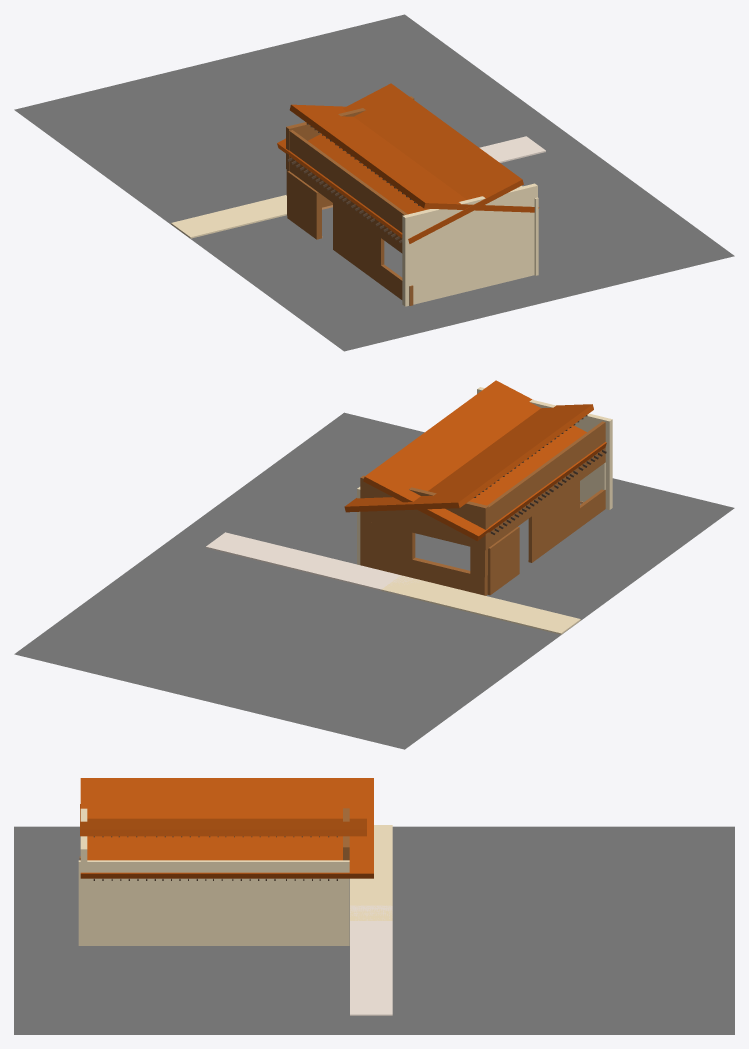
File: Paredes 1.fbx
The picture shows the model from 3 angles, top to bottom: view 1: azimuth 30°, elevation 25°; view 2: azimuth 150°, elevation 25°; view 3: azimuth 270°, elevation 25°; orthographic projection. The views are drawn at different scales.
Visible parts, largest first — view 1: Chao_1, Teto_1, Parede_1, Teto_2, Parede_3, Chao_3, Parede_9, Parede_2, Parede_7, Chao_2, Parede_11; view 2: Chao_1, Teto_1, Teto_2, Parede_3, Chao_2, Chao_3, Parede_11, Parede_5, Parede_1, Parede_2, Parede_9, Parede_10 (+1 smaller); view 3: Chao_1, Parede_4, Teto_2, Teto_1, Chao_2, Chao_3, Parede_1.
Part boxes in pixels (x1,y1,x2,y2): Chao_1: (14, 14, 734, 351); Teto_1: (277, 83, 523, 243); Parede_1: (402, 183, 537, 306); Teto_2: (289, 104, 539, 212); Parede_3: (289, 130, 407, 253); Chao_3: (171, 195, 286, 238); Parede_9: (287, 171, 321, 239); Parede_2: (333, 230, 413, 305); Parede_7: (333, 203, 384, 264); Chao_2: (479, 136, 545, 162); Parede_11: (286, 96, 414, 170); Chao_1: (14, 412, 734, 749); Teto_1: (363, 380, 606, 541); Teto_2: (344, 404, 593, 512); Parede_3: (487, 421, 605, 547); Chao_2: (205, 532, 420, 597); Chao_3: (381, 575, 580, 634); Parede_11: (360, 475, 488, 550); Parede_5: (360, 547, 487, 595); Parede_1: (477, 387, 612, 509); Parede_2: (528, 489, 605, 562); Parede_9: (487, 527, 519, 595); Parede_10: (360, 520, 415, 559); Chao_1: (14, 826, 734, 1034); Parede_4: (78, 860, 349, 945); Teto_2: (80, 778, 373, 878); Teto_1: (80, 804, 366, 836); Chao_2: (350, 905, 392, 1015); Chao_3: (350, 825, 392, 920); Parede_1: (80, 808, 87, 945).
Bounding box in the file's own units: 14971 × 3657 × 21909.
